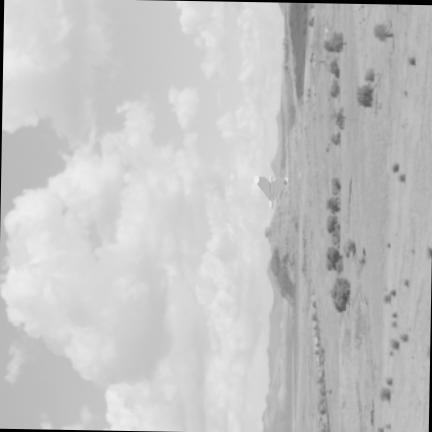Shahed: (254, 175, 287, 207)
